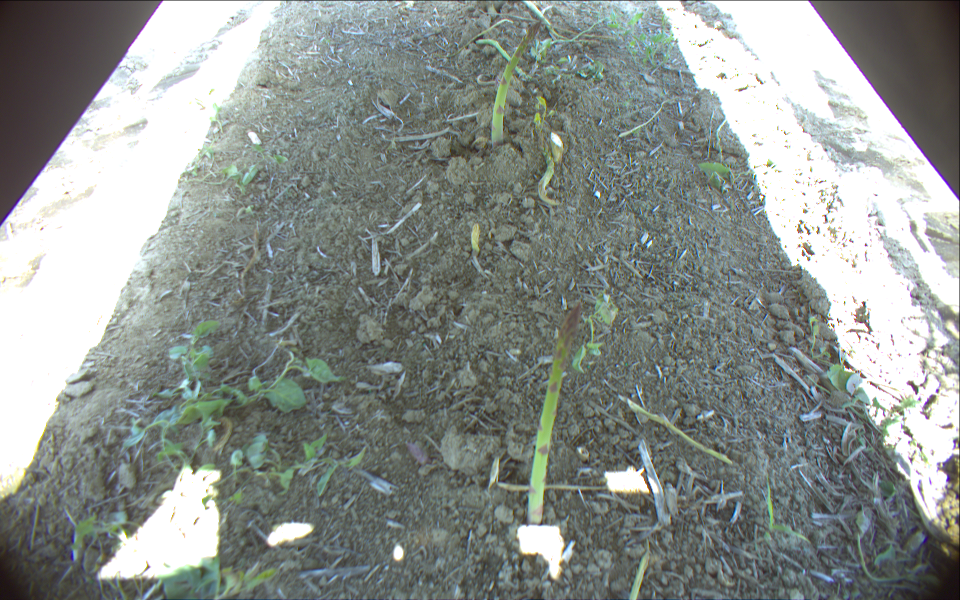aspa: (525, 298, 579, 524), (621, 400, 732, 468), (489, 22, 539, 142), (521, 1, 605, 44), (478, 39, 543, 82), (531, 121, 563, 205), (715, 108, 731, 167), (467, 222, 483, 262)
